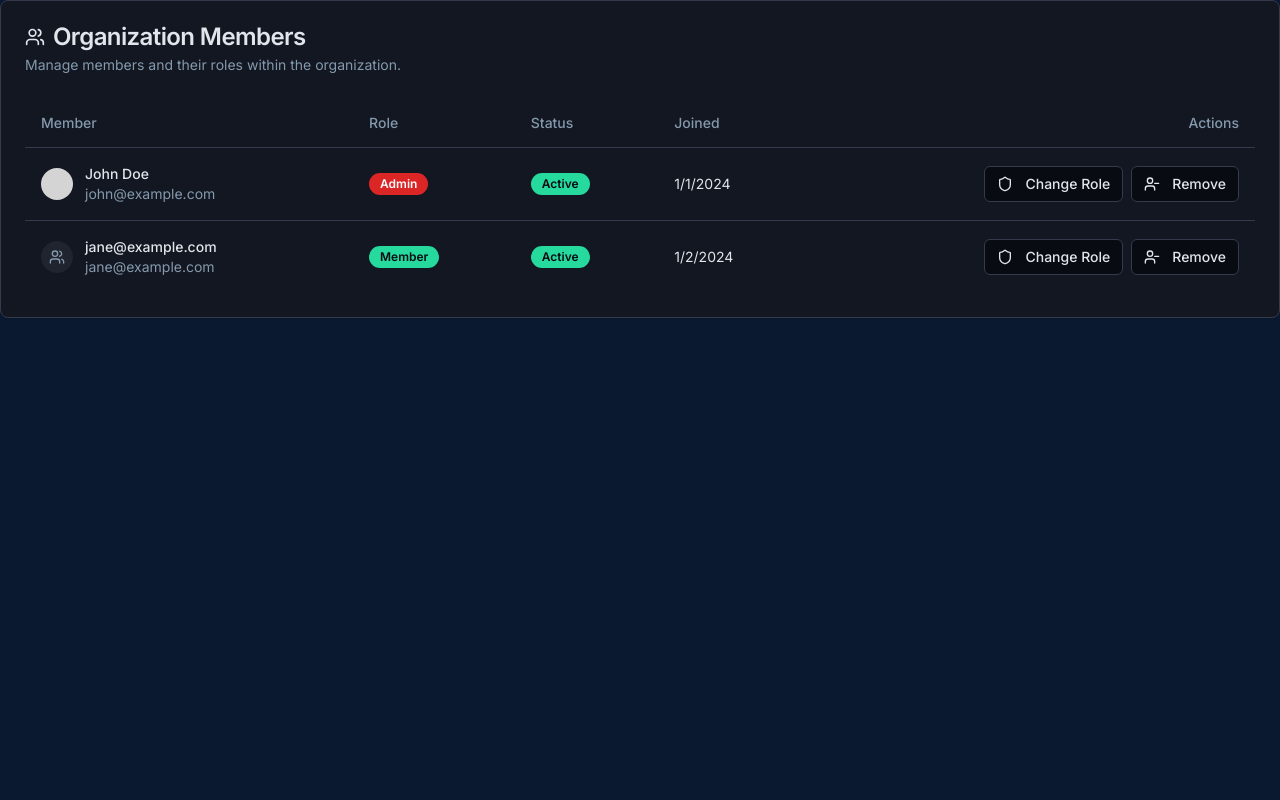
Test case: MemberManagement › opens role change dialog
What coordinates should you click on to do the following:
click the button "Change Role" in the row of "John Doe"
I would click on:
 (1054, 184)
Its box is [984,166,1123,202].
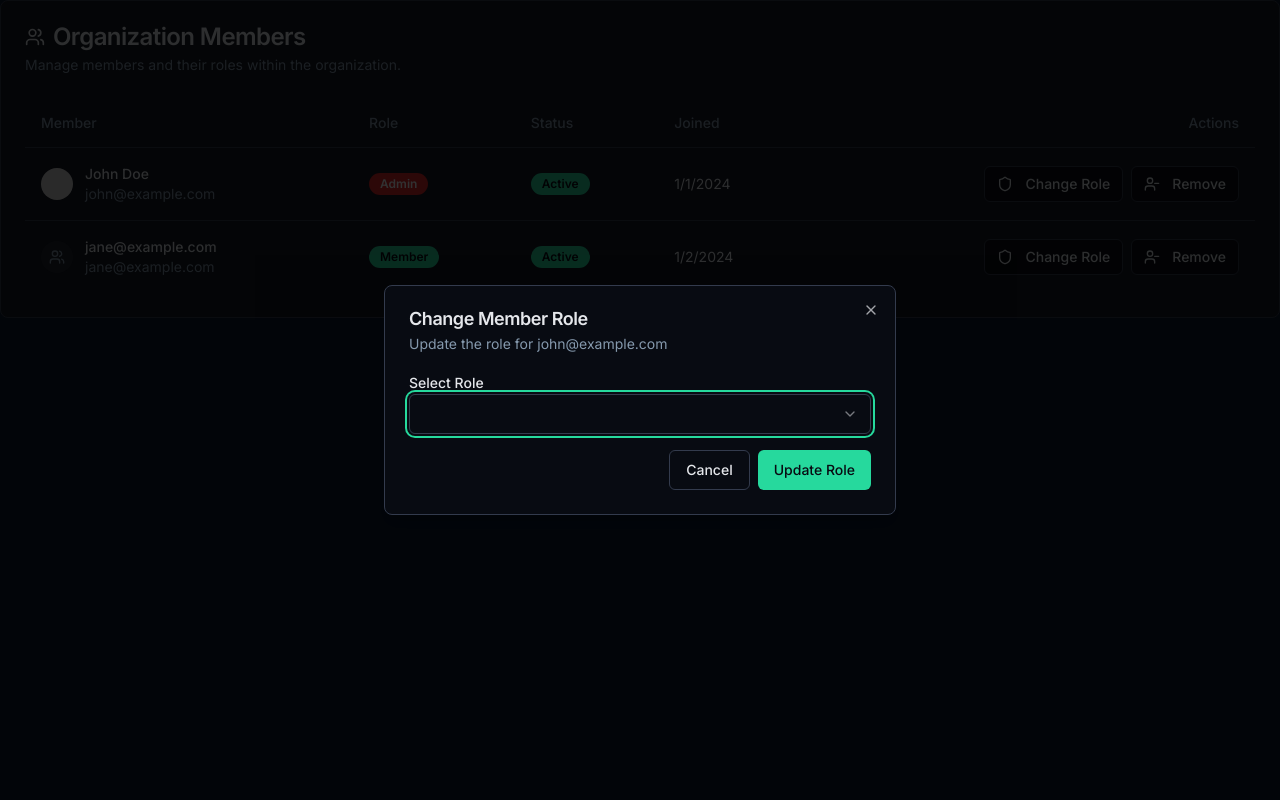
Now the heading "Change Member Role" is shown, box [409,308,588,329]
Now the text "Update the role for john@example.com" is shown, box [409,335,668,352]
